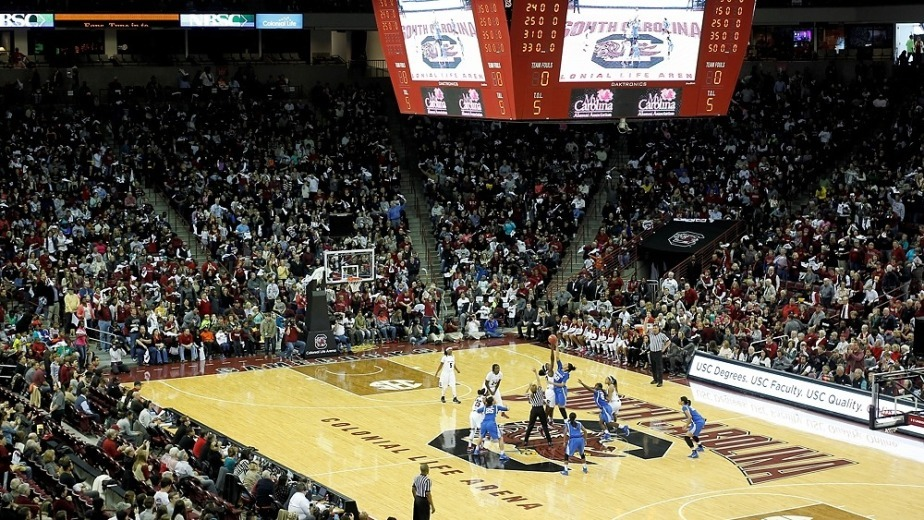basketball: (543, 331, 564, 348)
basketball player: (665, 385, 728, 471), (576, 373, 629, 441), (556, 410, 597, 483), (427, 339, 467, 409), (476, 398, 514, 457), (552, 351, 584, 419), (477, 358, 512, 409)
